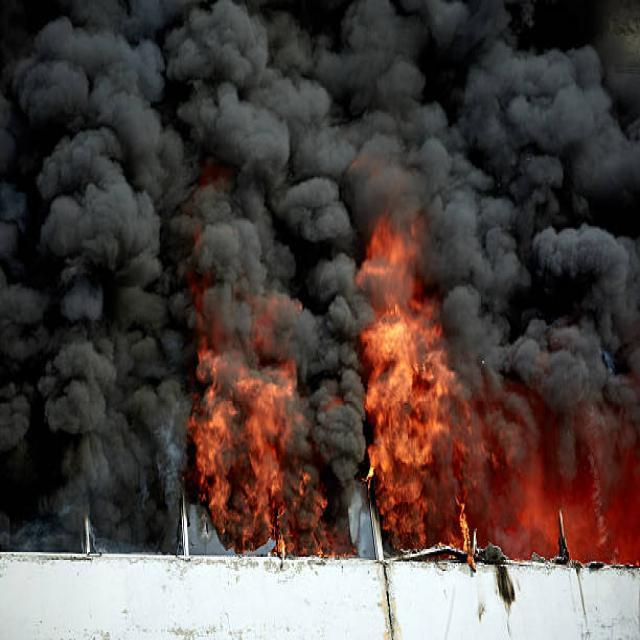Fire: (189, 275, 354, 558), (361, 234, 466, 536)
Smoke: (409, 4, 640, 519), (4, 14, 424, 294), (0, 248, 187, 551)
